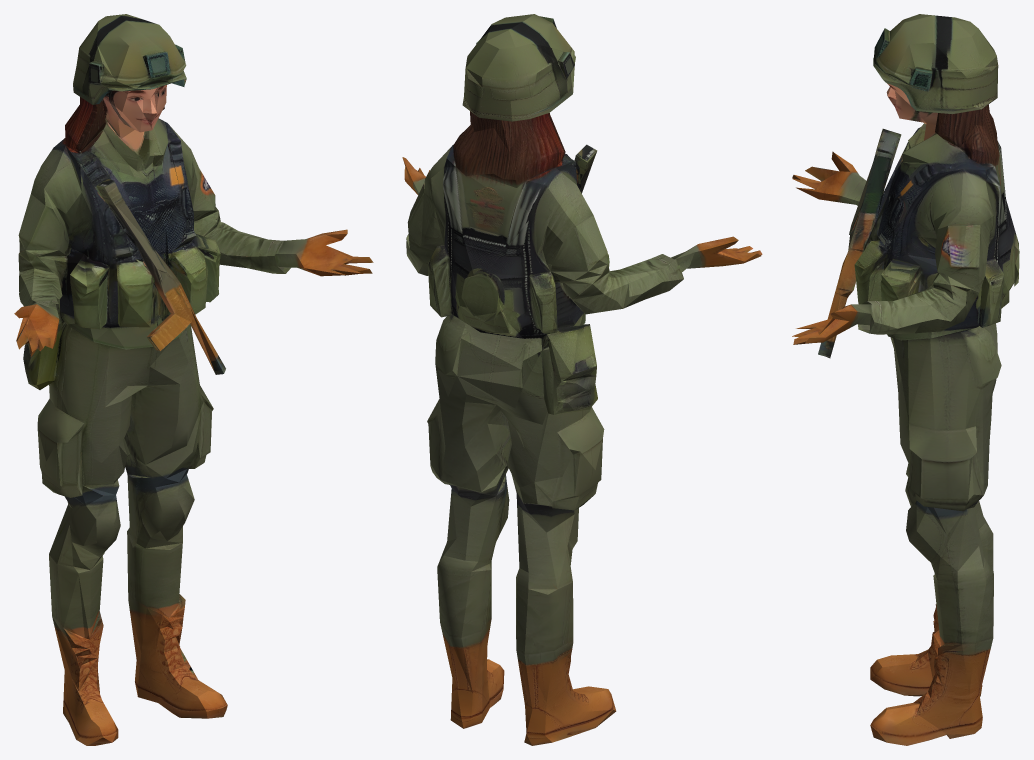
3 renders of one model, left to right at view 1: azimuth 30°, elevation 25°; view 2: azimuth 150°, elevation 25°; view 3: azimuth 270°, elevation 25°, orthographic.
Parts seen in each view (by area): view 1: output_unwrapped; view 2: output_unwrapped; view 3: output_unwrapped.
Boxes of the visible parts, x1,y1,x2,y2 form: output_unwrapped: (14,14,373,745); output_unwrapped: (402,14,762,745); output_unwrapped: (792,14,1019,745).
Size of the model in its own units: 1.01 by 1.9 by 0.5641.
Materials: 1 (1 with a texture image).
